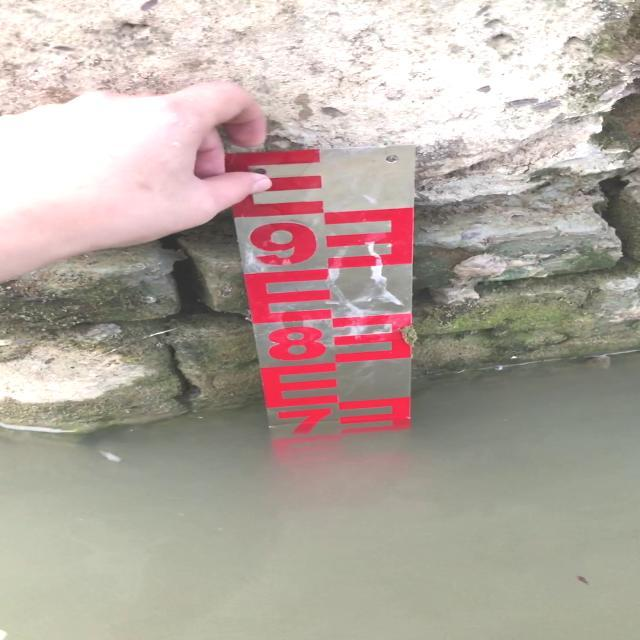ruler: (188, 129, 443, 449)
value: (234, 214, 332, 276), (251, 320, 336, 370)
